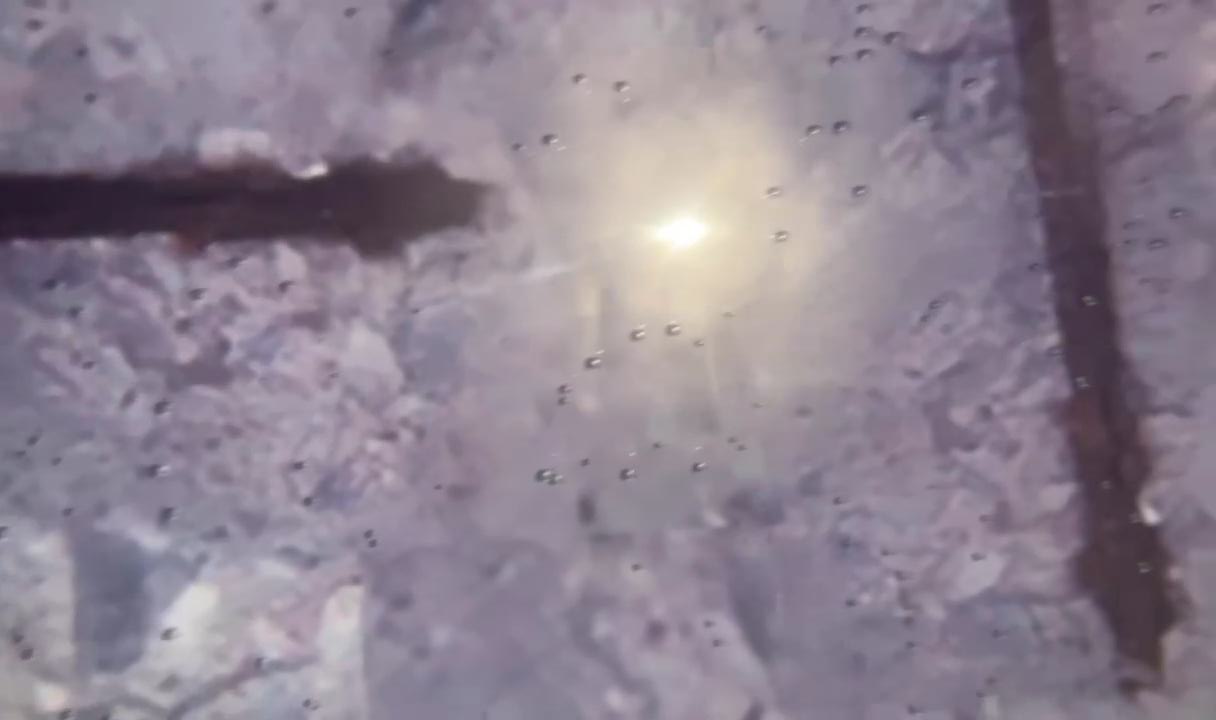Exposed reinforcement: (1009, 1, 1178, 681), (1, 142, 481, 262)
